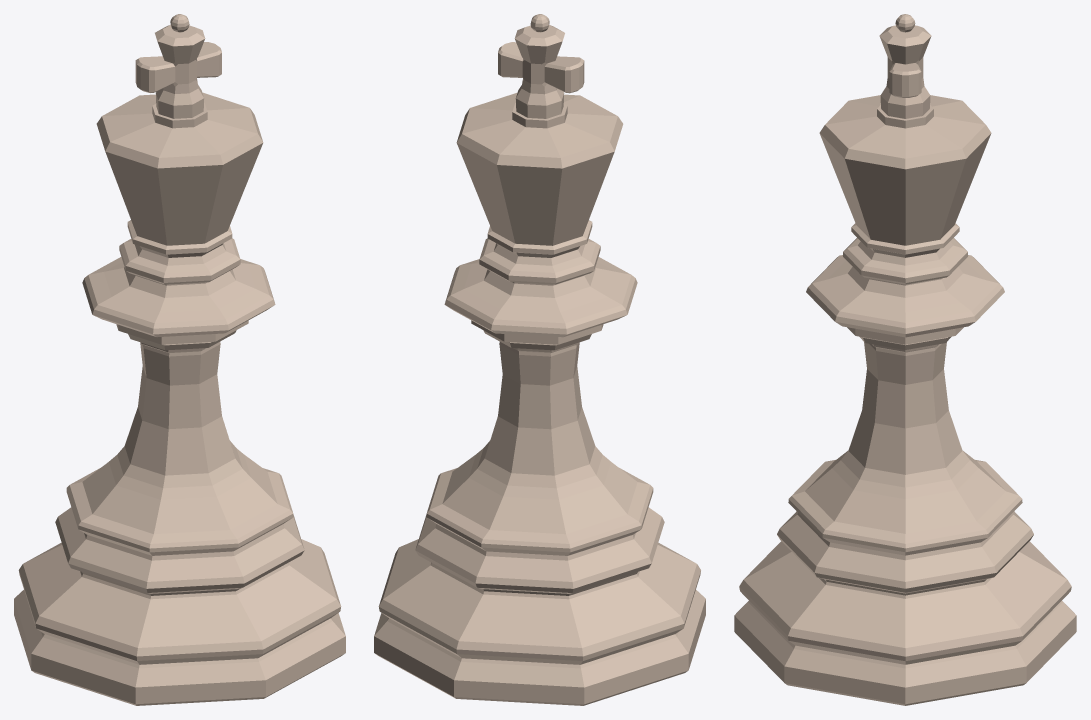
The model's file is white_king.glb.
3 renders of one model, left to right at view 1: azimuth 30°, elevation 25°; view 2: azimuth 150°, elevation 25°; view 3: azimuth 270°, elevation 25°, orthographic.
Visible parts, largest first — view 1: Object_4; view 2: Object_4; view 3: Object_4.
Boxes of the visible parts, left/top/right/bottom form: Object_4: left=14, top=14, right=345, bottom=705; Object_4: left=374, top=14, right=705, bottom=705; Object_4: left=734, top=14, right=1076, bottom=705.
Size of the model in its own units: 0.03 by 0.06 by 0.03.
